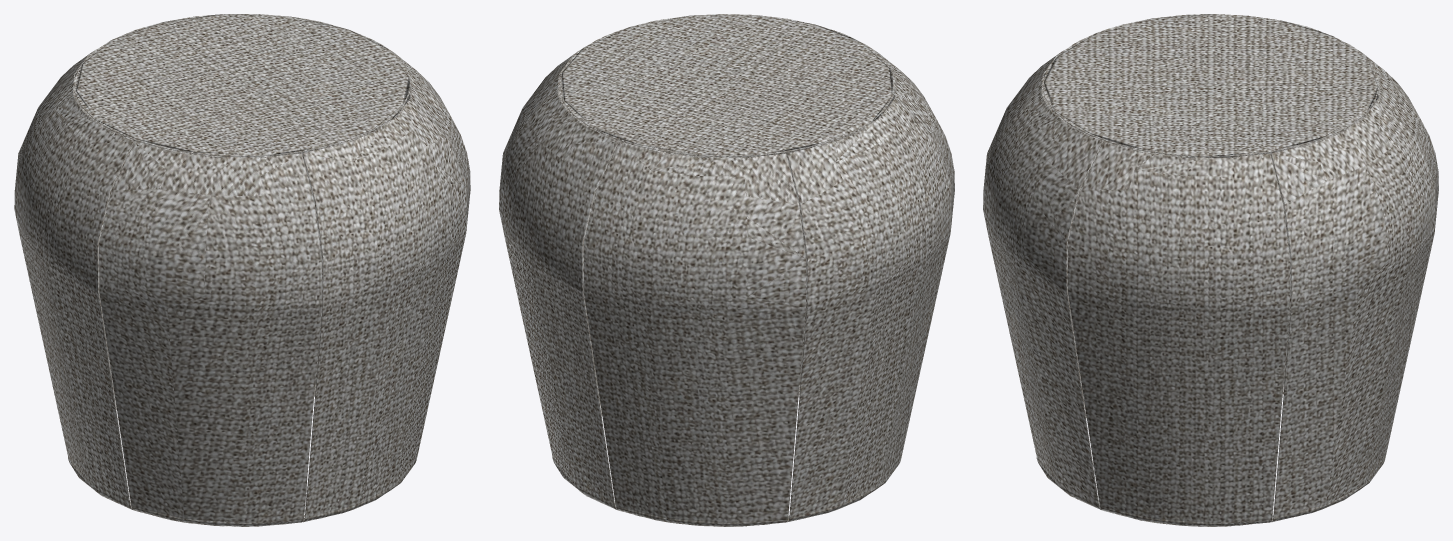
The picture shows the model from 3 angles, left to right: view 1: azimuth 30°, elevation 25°; view 2: azimuth 150°, elevation 25°; view 3: azimuth 270°, elevation 25°; orthographic projection.
Parts seen in each view (by area): view 1: 2; view 2: 2; view 3: 2.
Boxes of the visible parts, left/top/right/bottom form: 2: left=14, top=14, right=470, bottom=526; 2: left=499, top=14, right=954, bottom=526; 2: left=983, top=14, right=1438, bottom=526.
Size of the model in its own units: 0.4794 by 0.4458 by 0.4791.
Materials: 2 (1 with a texture image).
